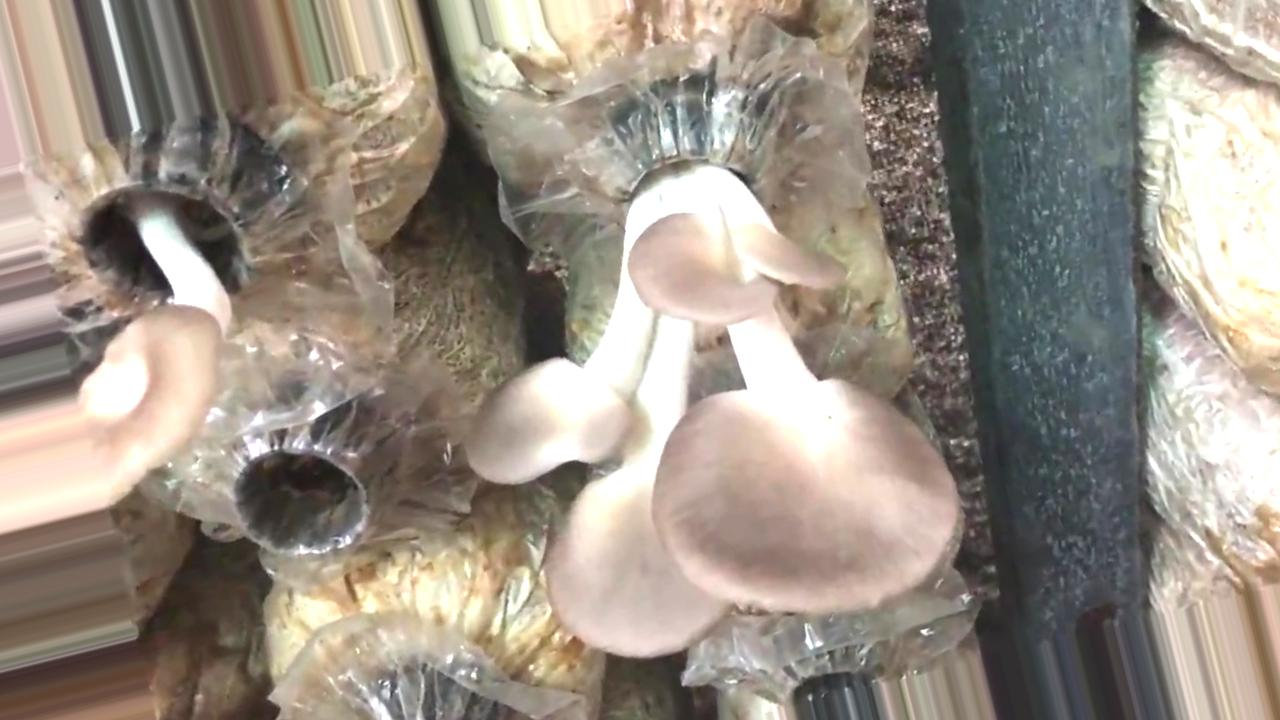nam: (471, 100, 956, 659), (1, 142, 261, 530)
